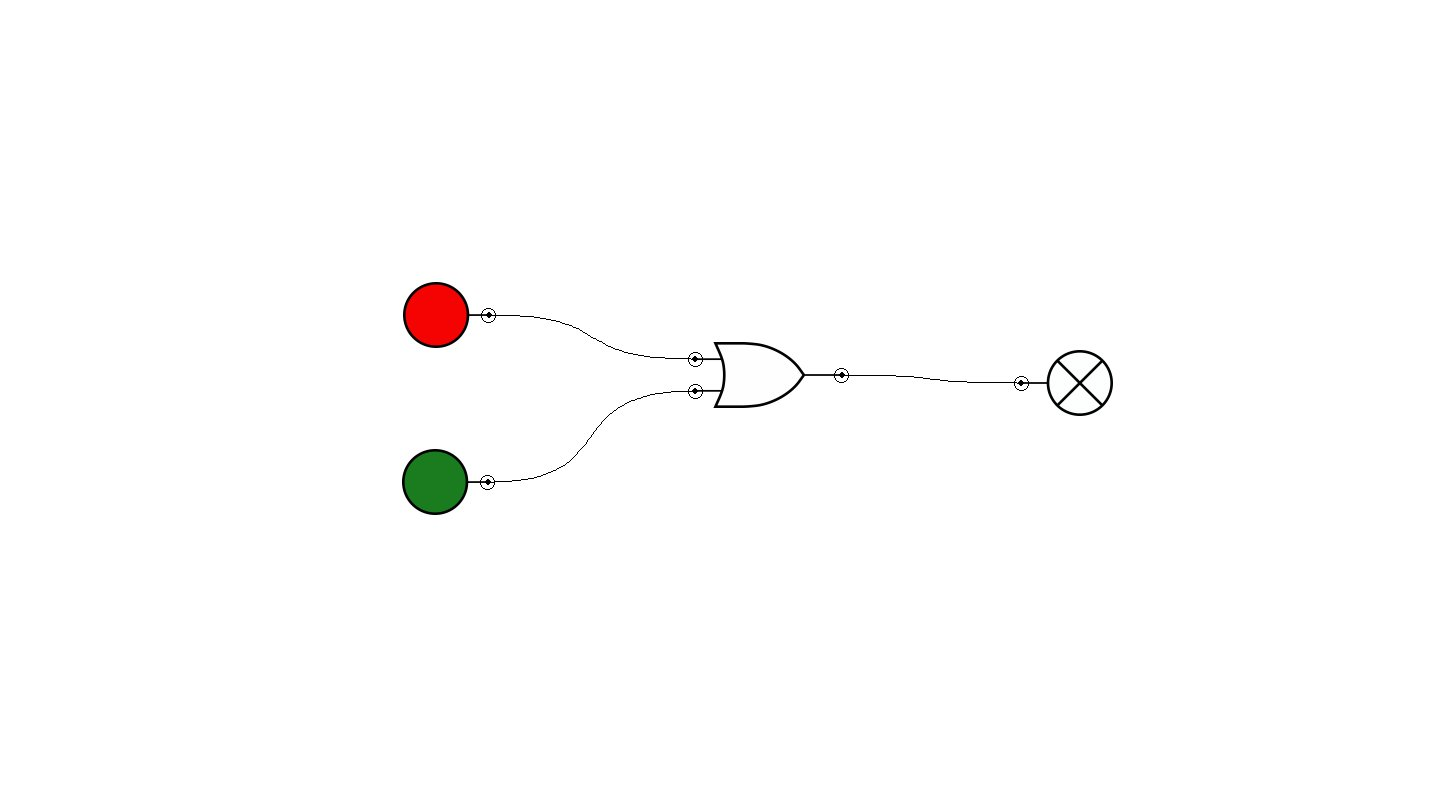bulb: (1014, 350, 1113, 416)
or: (688, 342, 849, 408)
switch_False: (403, 282, 496, 348)
switch_True: (402, 449, 495, 515)
